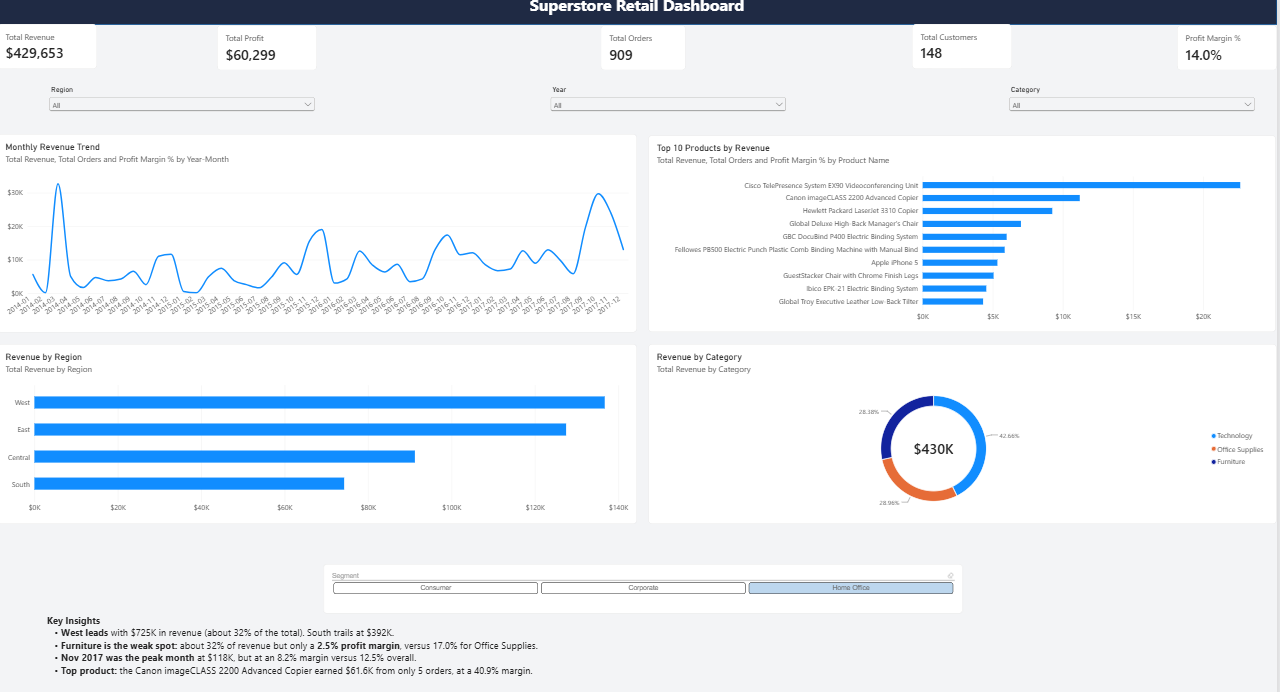

What the dashboard file says about the page in this screenshot:
{"tool":"powerbi","page":{"name":"Overview","canvas":[2560,1440],"ordinal":0},"visuals":[{"type":"shape","box":[0,0,2560,61.5],"z":0},{"type":"textbox","box":[0,0,2560,69.7],"z":1000},{"type":"cardVisual","fields":{"Data":["Measures (2).Total Profit"]},"box":[439.1,62.7,200,90],"z":2000},{"type":"cardVisual","fields":{"Data":["Measures (2).Total Revenue"]},"box":[0,60.3,200,90],"z":3000},{"type":"cardVisual","fields":{"Data":["Measures (2).Total Customers"]},"box":[1829,60.3,200,90],"z":4000},{"type":"cardVisual","fields":{"Data":["Measures (2).Total Orders"]},"box":[1206.4,62.7,170,90],"z":5000},{"type":"cardVisual","fields":{"Data":["Measures (2).Profit Margin %"]},"box":[2359,61.5,200,90],"z":6000},{"type":"lineChart","title":"Monthly Revenue Trend","fields":{"Category":["DateTable.Year-Month"],"Y":["Measures (2).Total Revenue"]},"box":[0,280,1280,396.7],"z":7000},{"type":"clusteredBarChart","title":"Top 10 Products by Revenue","fields":{"Category":["Sales.Product Name"],"Y":["Measures (2).Total Revenue"]},"box":[1303.3,283.3,1255.4,393.8],"z":8000},{"type":"clusteredBarChart","title":"Revenue by Region","fields":{"Category":["Sales.Region"],"Y":["Measures (2).Total Revenue"]},"box":[0,700,1280,360],"z":9000},{"type":"donutChart","title":"Revenue by Category","fields":{"Category":["Sales.Category"],"Y":["Measures (2).Total Revenue"]},"box":[1303.3,700,1256.7,360],"z":10000},{"type":"slicer","fields":{"Values":["Sales.Region"]},"box":[100,183.3,540,83.3],"z":11000},{"type":"slicer","fields":{"Values":["Sales.Category"]},"box":[2020,183.3,500,53.3],"z":12000},{"type":"slicer","fields":{"Values":["DateTable.Year"]},"box":[1103.3,183.3,480,106.7],"z":13000},{"type":"ChicletSlicer1448559807354","fields":{"Category":["Sales.Segment"]},"box":[652.6,1140,1279,99.6],"z":14000},{"type":"textbox","box":[100,1240,1275,200],"z":14002}]}

Visuals, with their boxes on the page's 2560x1440 design canvas (x1, y1, x2, y2). These are canvas units, not pixel positions in the 1280x692 screenshot, which may show the page scaled, cropped or inside an application window:
shape: bbox=(0, 0, 2560, 62)
textbox: bbox=(0, 0, 2560, 70)
cardVisual - Measures (2).Total Profit: bbox=(439, 63, 639, 153)
cardVisual - Measures (2).Total Revenue: bbox=(0, 60, 200, 150)
cardVisual - Measures (2).Total Customers: bbox=(1829, 60, 2029, 150)
cardVisual - Measures (2).Total Orders: bbox=(1206, 63, 1376, 153)
cardVisual - Measures (2).Profit Margin %: bbox=(2359, 62, 2559, 152)
"Monthly Revenue Trend" lineChart: bbox=(0, 280, 1280, 677)
"Top 10 Products by Revenue" clusteredBarChart: bbox=(1303, 283, 2559, 677)
"Revenue by Region" clusteredBarChart: bbox=(0, 700, 1280, 1060)
"Revenue by Category" donutChart: bbox=(1303, 700, 2560, 1060)
slicer - Sales.Region: bbox=(100, 183, 640, 267)
slicer - Sales.Category: bbox=(2020, 183, 2520, 237)
slicer - DateTable.Year: bbox=(1103, 183, 1583, 290)
ChicletSlicer1448559807354 - Sales.Segment: bbox=(653, 1140, 1932, 1240)
textbox: bbox=(100, 1240, 1375, 1440)
